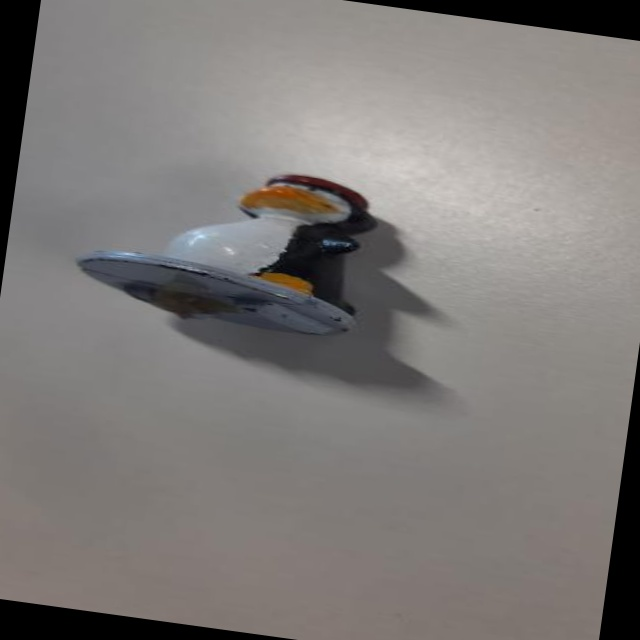Penguin: (84, 145, 430, 342)
